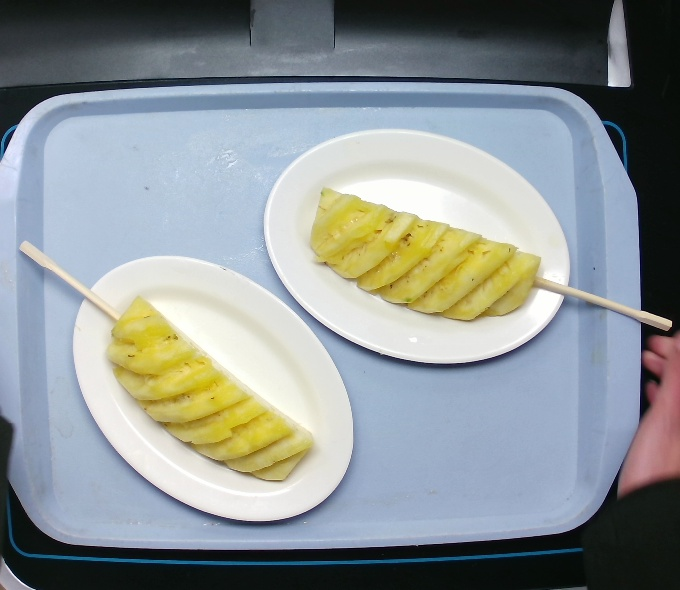wcq-BoLuo: (90, 274, 318, 498), (291, 170, 569, 334)
